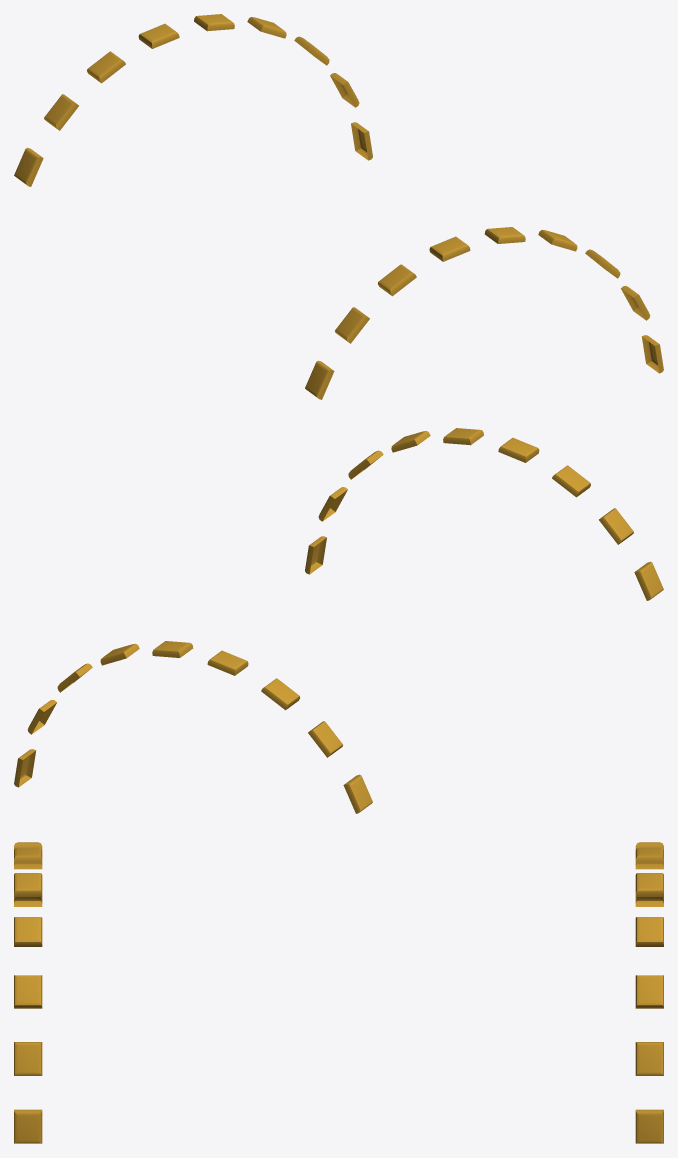
The model's file is Levone_Luci.fbx.
3 views of the same model, one above another, from view 1: azimuth 30°, elevation 25°; view 2: azimuth 150°, elevation 25°; view 3: azimuth 270°, elevation 25° (orthographic). The views are drawn at different scales.
Parts seen in each view (by area): view 1: polySurface291; view 2: polySurface291; view 3: polySurface291.
Part boxes in pixels (x1,y1,x2,y2): polySurface291: (14,14,663,399); polySurface291: (14,428,663,813); polySurface291: (14,842,663,1143).
Size of the model in its own units: 32.51 by 15.63 by 49.26.
